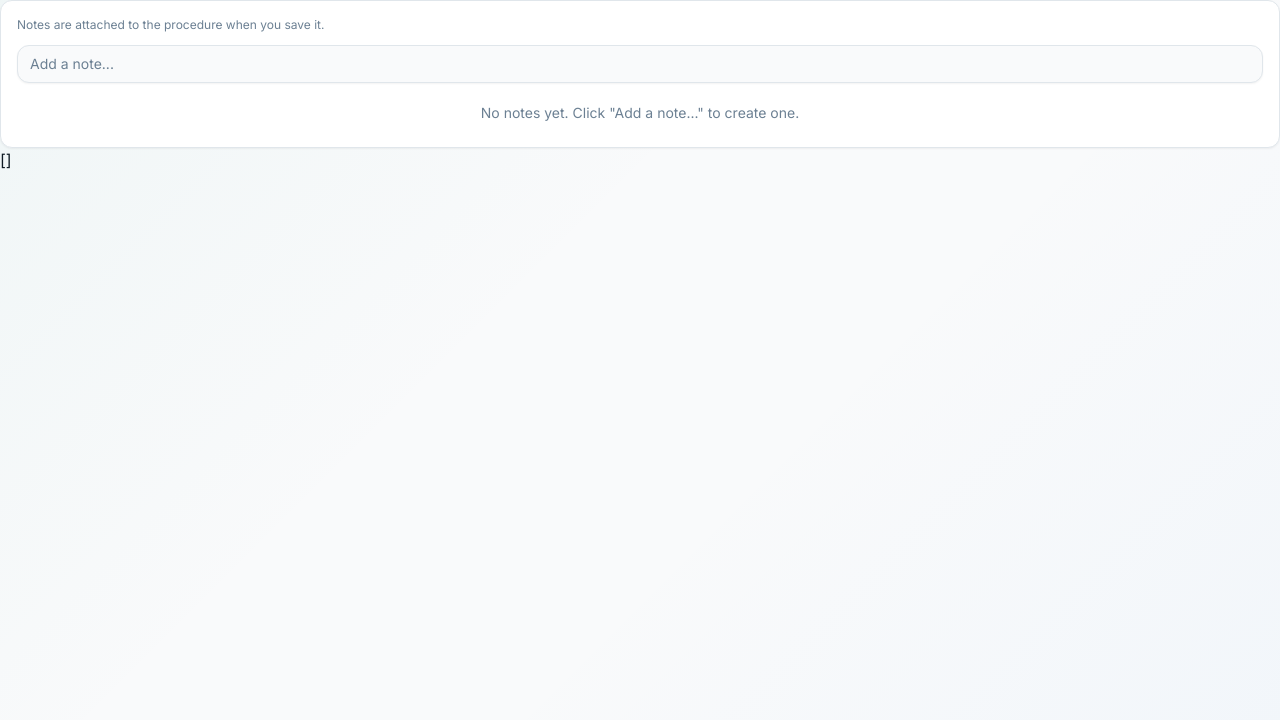
Test: StickyNotes - composer defaults › opens a new note already titled with the therapist
Click the button "Add a note..." at (72, 64), box [17,45,1263,83]
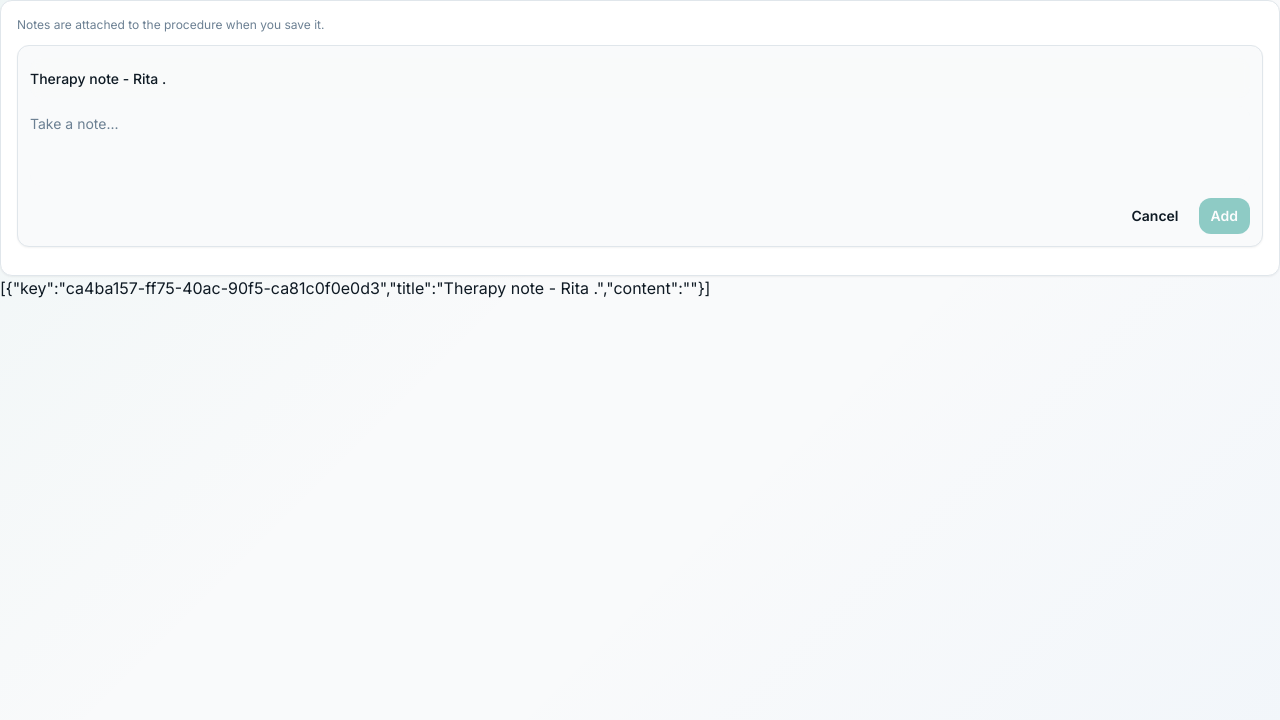
Expected: the field with placeholder "Title" holds "Therapy note - Rita .", [30,58,1250,98]
